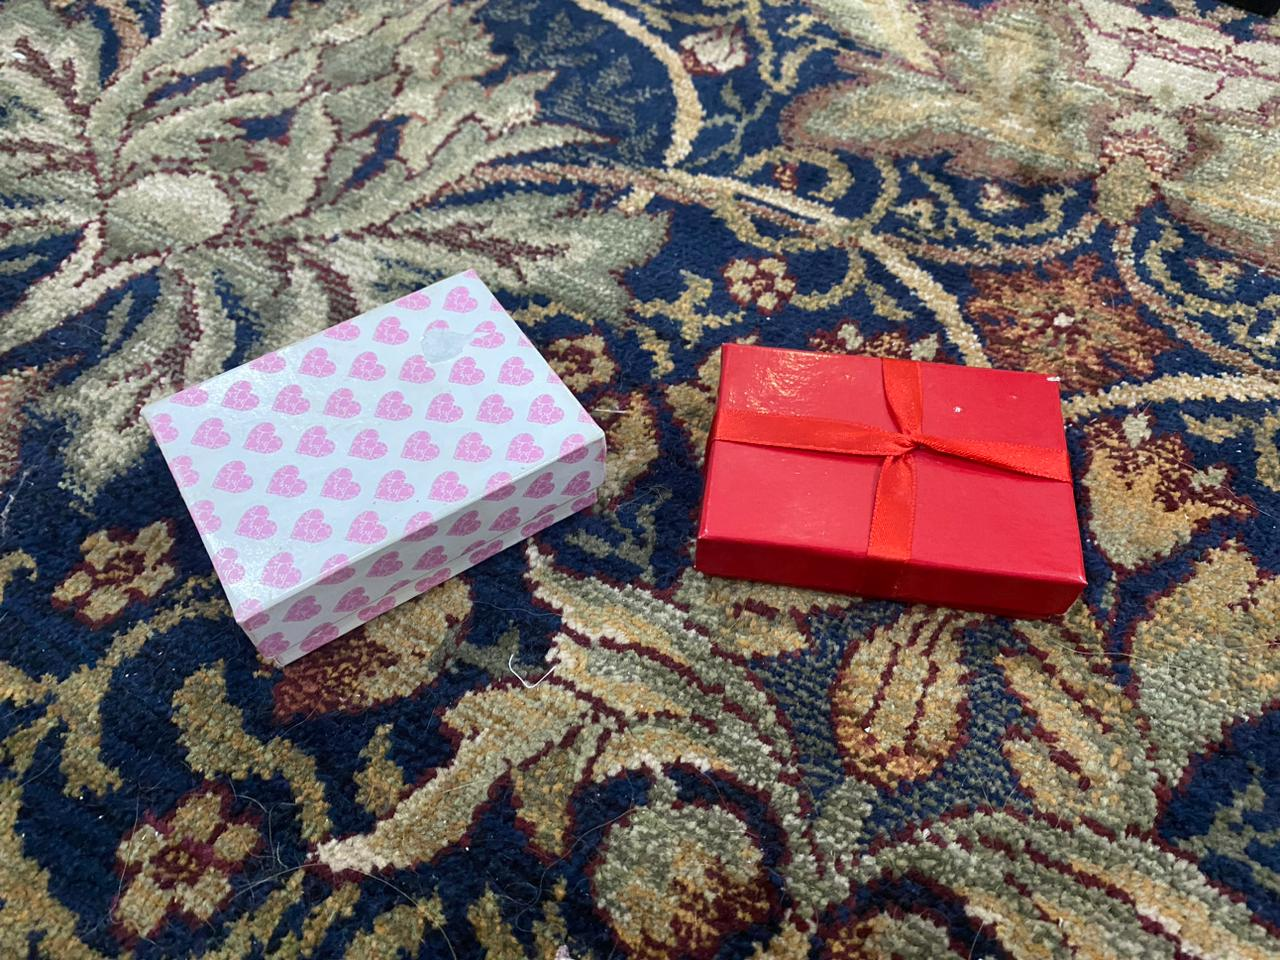Pink Box: (134, 266, 608, 672)
Red Box: (692, 325, 1094, 620)
